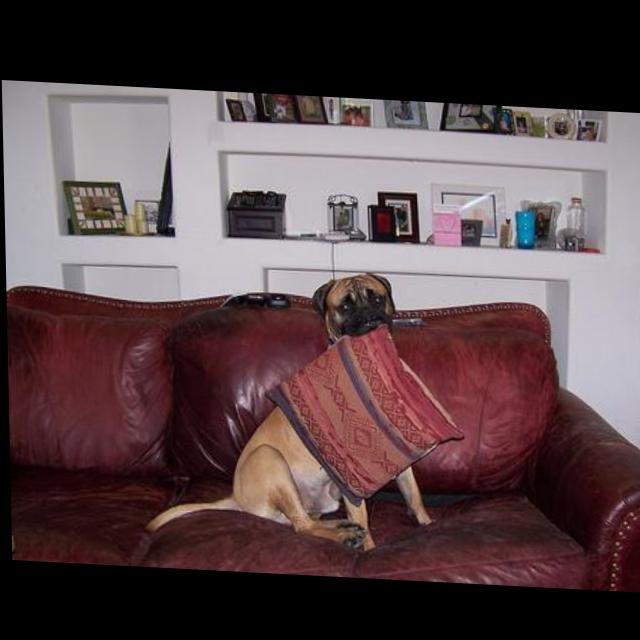bullmastiff: (140, 258, 434, 552)
